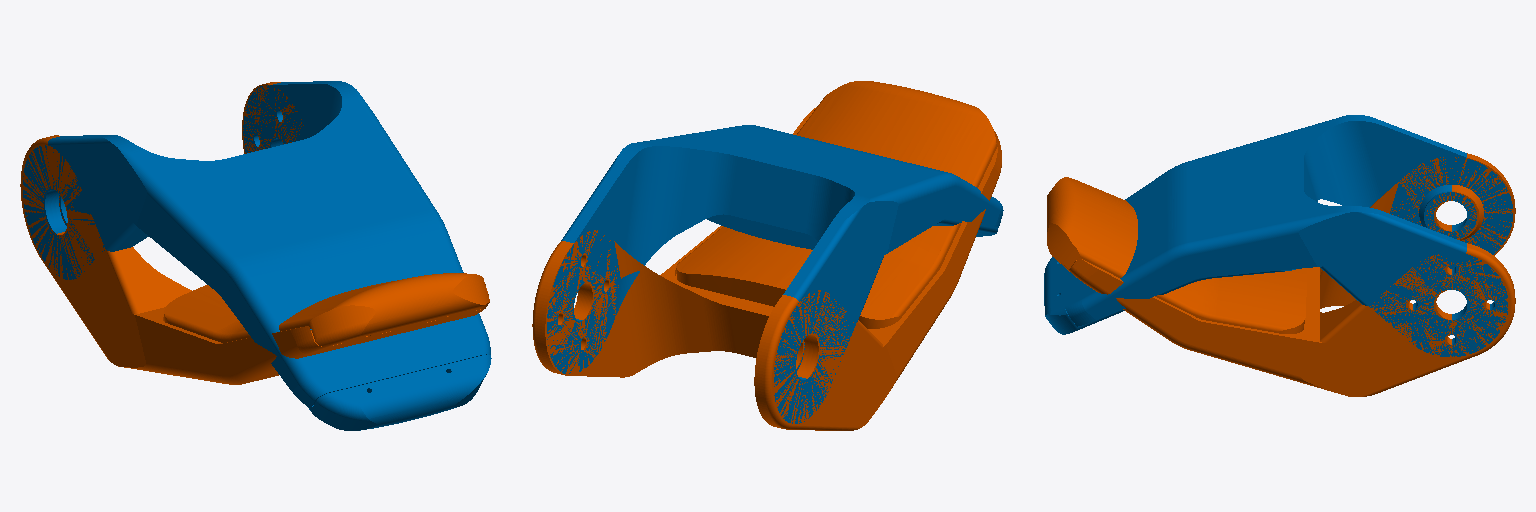
The robot description file, URDF, robot "reachy":
<?xml version="1.0"?>
<robot name="reachy">

<!-- Torso Link -->

<link name="pedestal"/>

<link name="torso">
    <inertial>
        <origin xyz="0.0 0.019 -0.009" rpy="0.0 0.0 0.0"/>
        <mass value="0.527"/>
        <inertia ixx="2.89598e-3" ixy="-1.16791e-6" ixz="-8.28749e-6" iyy="4.491e-3" iyz="2.343e-4" izz="3.995e-3"/>
    </inertial>
    <visual name="">
        <origin xyz="0.0 0.0 0.0" rpy="0.0 0.0 0.0"/>
        <geometry>
            <mesh filename="package://reachy_description/meshes/torso.dae"/>
        </geometry>
    </visual>
    <collision>
        <origin xyz="0 0 -0.1" rpy="0 0.05 0" />
        <geometry>
            <box size="0.11 0.2 0.32" />
        </geometry>
    </collision>
</link>

<!-- Head Links -->

<link name="head">
    <inertial>
        <origin xyz="-0.009 -0.002 0.059" rpy="0.0 0.0 0.0"/>
        <mass value="0.237"/>
        <inertia ixx="1.676e-3" ixy="3.068e-6" ixz="1.2449e-4" iyy="1.368e-3" iyz="3.360e-5" izz="8.425e-4"/>
    </inertial>
    <visual name="">
        <origin xyz="0.0 0.0 0.0" rpy="0.0 0.0 0.0"/>
        <geometry>
            <mesh filename="package://reachy_description/meshes/head.dae"/>
        </geometry>
    </visual>
    <collision>
        <origin xyz="-0.009 -0.002 0.059" rpy="1.57 0.0 0.0"/>
        <geometry>
            <cylinder length="0.15" radius="0.06" />
        </geometry>
    </collision>
</link>

<link name="l_antenna">
    <inertial>
        <origin xyz="-0.001 0.0 0.008" rpy="0.0 0.0 0.0"/>
        <mass value="0.004"/>
        <inertia ixx="1.794e-7" ixy="-1.240e-5" ixz="1.91701e-8" iyy="1.5e-7" iyz="3.169e-6" izz="1.933e-7"/>
    </inertial>
    <visual name="">
        <origin xyz="0.0 0.0 0.0" rpy="0.0 0.0 0.0"/>
        <geometry>
            <mesh filename="package://reachy_description/meshes/antenna.dae"/>
        </geometry>
    </visual>
</link>

<link name="r_antenna">
    <inertial>
        <origin xyz="-0.001 0.0 0.008" rpy="0.0 0.0 0.0"/>
        <mass value="0.004"/>
        <inertia ixx="1.794e-7" ixy="-1.240e-5" ixz="1.91701e-8" iyy="1.5e-7" iyz="3.169e-6" izz="1.933e-7"/>
    </inertial>
    <visual name="">
        <origin xyz="0.0 0.0 0.0" rpy="0.0 0.0 0.0"/>
        <geometry>
            <mesh filename="package://reachy_description/meshes/antenna.dae"/>
        </geometry>
    </visual>
</link>

<!-- Right Arm Links -->

<link name="r_shoulder">
    <inertial>
        <origin xyz="-0.016 0.036 0.0" rpy="1.57 1.57 0.0"/>
        <mass value="0.053"/>
        <inertia ixx="3.308e-4" ixy="9.972e-8" ixz="-2.037e-9" iyy="4.650e-5" iyz="2.113e-6" izz="3.545e-5"/>
    </inertial>
    <visual name="">
        <origin xyz="0.0 0.04 0.0" rpy="1.57 1.57 0.0"/>
        <geometry>
            <mesh filename="package://reachy_description/meshes/shoulder.dae"/>
        </geometry>
    </visual>
    <collision>
        <origin xyz="0.0 0.04 0.0" rpy="1.57 1.57 0.0"/>
        <geometry>
            <cylinder length="0.09" radius="0.035" />
        </geometry>
    </collision>
</link>

<link name="r_shoulder_x">
    <inertial>
        <origin xyz="-0.0 0.0 -0.019" rpy="0.0 0.0 0.0"/>
        <mass value="0.158"/>
        <inertia ixx="6.887e+4" ixy="5.393e+0" ixz="-9.155e+2" iyy="7.895e+4" iyz="4.512e-1" izz="4.235e+4"/>
    </inertial>
    <visual name="">
        <origin xyz="0.0 0.0 0.0" rpy="0.0 0.0 0.0"/>
        <geometry>
            <mesh filename="package://reachy_description/meshes/shoulder_x.dae"/>
        </geometry>
    </visual>
    <collision>
        <origin xyz="0 0 -0.02" rpy="0.0 0.0 0.0"/>
        <geometry>
            <cylinder length="0.04" radius="0.035" />
        </geometry>
    </collision>
</link>

<link name="r_upper_arm">
    <inertial>
        <origin xyz="-0.004 0.0 -0.1426" rpy="0.0 0.0 0.0"/>
        <mass value="0.430"/>
        <inertia ixx="3.264e-3" ixy="-4.027e-8" ixz="1.395e-4" iyy="3.345e-3" iyz="1.885e-6" izz="2.616e-4"/>
    </inertial>
    <visual name="">
        <origin xyz="0.0 0.0 -0.0526" rpy="0.0 0.0 0.0"/>
        <geometry>
            <mesh filename="package://reachy_description/meshes/upper_arm.dae"/>
        </geometry>
    </visual>
    <collision>
        <origin xyz="0.0 0.0 -0.16" rpy="0.0 0.0 0.0"/>
        <geometry>
            <cylinder length="0.25" radius="0.04" />
        </geometry>
    </collision>
</link>

<link name="r_forearm">
    <inertial>
        <origin xyz="-0.008 0.0 -0.058" rpy="0.0 0.0 0.0"/>
        <mass value="0.162"/>
        <inertia ixx="2.532e-4" ixy="-2.999e-8" ixz="1.448e-5" iyy="2.538e-4" iyz="-4.323e-8" izz="1.234e-4"/>
    </inertial>
    <visual name="">
        <origin xyz="0.0 0.0 0.0" rpy="0.0 0.0 0.0"/>
        <geometry>
            <mesh filename="package://reachy_description/meshes/forearm.dae"/>
        </geometry>
    </visual>
    <collision>
        <origin xyz="0.0 0.0 -0.058" rpy="0.0 0.0 0.0"/>
        <geometry>
            <cylinder length="0.09" radius="0.04" />
        </geometry>
    </collision>
</link>

<link name="r_wrist">
    <inertial>
        <origin xyz="0.0 0.0 -0.193" rpy="0.0 0.0 0.0"/>
        <mass value="0.197"/>
        <inertia ixx="6.157e-4" ixy="5.706e-8" ixz="-1.045e-5" iyy="6.280e-4" iyz="4.862e-7" izz="1.050e-4"/>
    </inertial>
    <visual name="">
        <origin xyz="0.0 0.0 -0.100" rpy="0.0 0.0 0.0"/>
        <geometry>
            <mesh filename="package://reachy_description/meshes/wrist.dae"/>
        </geometry>
    </visual>
    <collision>
        <origin xyz="0.0 0.0 -0.18" rpy="0.0 0.0 0.0"/>
        <geometry>
            <cylinder length="0.14" radius="0.035" />
        </geometry>
    </collision>
</link>

<link name="r_wrist2hand">
    <inertial>
        <origin xyz="0.0 0.0 0.014" rpy="0.0 0.0 0.0"/>
        <mass value="0.01"/>
        <inertia ixx="6.750e-6" ixy="3.732e-11" ixz="-1.581e-11" iyy="6.060e-6" iyz="-1.746e-12" izz="5.774e-6"/>
    </inertial>
    <visual name="">
        <origin xyz="0.0 0.0 0.0" rpy="0.0 0.0 0.0"/>
        <geometry>
            <mesh filename="package://reachy_description/meshes/wrist2hand.dae"/>
        </geometry>
    </visual>
    <collision>
        <origin xyz="0.0 0.0 -0.03" rpy="0.0 0.0 0.0"/>
        <geometry>
            <cylinder length="0.06" radius="0.03" />
        </geometry>
    </collision>
</link>

<link name="r_gripper_thumb">
    <inertial>
        <origin xyz="0.032 -0.008 0.0" rpy="0.0 1.57 0.0"/>
        <mass value="0.173"/>
        <inertia ixx="1.083e-4" ixy="-3.476e-5" ixz="1.331e-6" iyy="1.421e-4" iyz="6.730e-7" izz="2.112e-4"/>
    </inertial>
    <visual name="">
        <origin xyz="0.0 0.0 0.0" rpy="0.0 1.57 0.0"/>
        <geometry>
            <mesh filename="package://reachy_description/meshes/r_gripper_thumb.dae"/>
        </geometry>
    </visual>
    <collision>
        <origin xyz="0.0 0.02 -0.06" rpy="0.0 1.57 0.0"/>
        <geometry>
            <box size="0.1 0.012 0.035" />
        </geometry>
    </collision>
</link>

<link name="r_gripper_finger">
    <inertial>
        <origin xyz="-0.005 -0.043 -0.0" rpy="0.0 1.57 0.0"/>
        <mass value="0.035"/>
        <inertia ixx="9.166e-5" ixy="-6.559e-6" ixz="-3.952e-8" iyy="1.062e-5" iyz="5.276e-9" izz="8.704e-5"/>
    </inertial>
    <visual name="">
        <origin xyz="0.0 0.0 0.0" rpy="0.0 1.57 0.0"/>
        <geometry>
            <mesh filename="package://reachy_description/meshes/r_gripper_finger.dae"/>
        </geometry>
    </visual>
    <collision>
        <origin xyz="0.0 -0.01 -0.02" rpy="0.0 1.57 0.0"/>
        <geometry>
            <box size="0.1 0.012 0.035" />
        </geometry>
    </collision>
</link>

<link name="right_tip"/>


<!-- Left Arm Links -->

<link name="l_shoulder">
    <inertial>
        <origin xyz="-0.016 0.044 0.0" rpy="-1.57 1.57 0.0"/>
        <mass value="0.053"/>
        <inertia ixx="3.308e-4" ixy="9.972e-8" ixz="-2.037e-9" iyy="4.650e-5" iyz="2.113e-6" izz="3.545e-5"/>
    </inertial>
    <visual name="">
        <origin xyz="0.0 -0.04 0.0" rpy="-1.57 1.57 0.0"/>
        <geometry>
            <mesh filename="package://reachy_description/meshes/shoulder.dae"/>
        </geometry>
    </visual>
    <collision>
        <origin xyz="0.0 -0.04 0.0" rpy="-1.57 1.57 0.0"/>
        <geometry>
            <cylinder length="0.09" radius="0.035" />
        </geometry>
    </collision>
</link>

<link name="l_shoulder_x">
    <inertial>
        <origin xyz="0.0 0.0 -0.019" rpy="0.0 0.0 0.0"/>
        <mass value="0.158"/>
        <inertia ixx="6.887e+4" ixy="5.393e+0" ixz="-9.155e+2" iyy="7.895e+4" iyz="4.512e-1" izz="4.235e+4"/>
    </inertial>
    <visual name="">
        <origin xyz="0.0 0.0 0.0" rpy="0.0 0.0 0.0"/>
        <geometry>
            <mesh filename="package://reachy_description/meshes/shoulder_x.dae"/>
        </geometry>
    </visual>
    <collision>
        <origin xyz="0 0 -0.02" rpy="0.0 0.0 0.0"/>
        <geometry>
            <cylinder length="0.04" radius="0.035" />
        </geometry>
    </collision>
</link>

<link name="l_upper_arm">
    <inertial>
        <origin xyz="-0.004 0.0 -0.1426" rpy="0.0 0.0 0.0"/>
        <mass value="0.430"/>
        <inertia ixx="3.264e-3" ixy="-4.027e-8" ixz="1.395e-4" iyy="3.345e-3" iyz="1.885e-6" izz="2.616e-4"/>
    </inertial>
    <visual name="">
        <origin xyz="0.0 0.0 -0.0526" rpy="0.0 0.0 0.0"/>
        <geometry>
            <mesh filename="package://reachy_description/meshes/upper_arm.dae"/>
        </geometry>
    </visual>
    <collision>
        <origin xyz="0.0 0.0 -0.16" rpy="0.0 0.0 0.0"/>
        <geometry>
            <cylinder length="0.25" radius="0.04" />
        </geometry>
    </collision>
</link>

<link name="l_forearm">
    <inertial>
        <origin xyz="-0.008 0.0 -0.058" rpy="0.0 0.0 0.0"/>
        <mass value="0.162"/>
        <inertia ixx="2.532e-4" ixy="-2.999e-8" ixz="1.448e-5" iyy="2.538e-4" iyz="-4.323e-8" izz="1.234e-4"/>
    </inertial>
    <visual name="">
        <origin xyz="0.0 0.0 0.0" rpy="0.0 0.0 0.0"/>
        <geometry>
            <mesh filename="package://reachy_description/meshes/forearm.dae"/>
        </geometry>
    </visual>
    <collision>
        <origin xyz="0.0 0.0 -0.058" rpy="0.0 0.0 0.0"/>
        <geometry>
            <cylinder length="0.09" radius="0.04" />
        </geometry>
    </collision>
</link>

<link name="l_wrist">
    <inertial>
        <origin xyz="0.0 0.0 -0.193" rpy="0.0 0.0 0.0"/>
        <mass value="0.197"/>
        <inertia ixx="6.157e-4" ixy="5.706e-8" ixz="-1.045e-5" iyy="6.280e-4" iyz="4.862e-7" izz="1.050e-4"/>
    </inertial>
    <visual name="">
        <origin xyz="0.0 0.0 -0.1" rpy="0.0 0.0 0.0"/>
        <geometry>
            <mesh filename="package://reachy_description/meshes/wrist.dae"/>
        </geometry>
    </visual>
    <collision>
        <origin xyz="0.0 0.0 -0.18" rpy="0.0 0.0 0.0"/>
        <geometry>
            <cylinder length="0.14" radius="0.035" />
        </geometry>
    </collision>
</link>

<link name="l_wrist2hand">
    <inertial>
        <origin xyz="0.0 0.0 0.014" rpy="0.0 0.0 0.0"/>
        <mass value="0.01"/>
        <inertia ixx="6.750e-6" ixy="3.732e-11" ixz="-1.581e-11" iyy="6.060e-6" iyz="-1.746e-12" izz="5.774e-6"/>
    </inertial>
    <visual name="">
        <origin xyz="0.0 0.0 0.0" rpy="0.0 0.0 0.0"/>
        <geometry>
            <mesh filename="package://reachy_description/meshes/wrist2hand.dae"/>
        </geometry>
    </visual>
    <collision>
        <origin xyz="0.0 0.0 -0.03" rpy="0.0 0.0 0.0"/>
        <geometry>
            <cylinder length="0.06" radius="0.03" />
        </geometry>
    </collision>
</link>

<link name="l_gripper_thumb">
    <inertial>
        <origin xyz="0.032 0.008 0.0" rpy="0.0 1.57 0.0"/>
        <mass value="0.173"/>
        <inertia ixx="1.088e+5" ixy="3.479e+4" ixz="1.357e+3" iyy="1.422e+5" iyz="-7.930e+2" izz="2.116e+5"/>
    </inertial>
    <visual name="">
        <origin xyz="0.0 0.0 0.0" rpy="0.0 1.57 0.0"/>
        <geometry>
            <mesh filename="package://reachy_description/meshes/l_gripper_thumb.dae"/>
        </geometry>
    </visual>
    <collision>
        <origin xyz="0.0 -0.02 -0.06" rpy="0.0 1.57 0.0"/>
        <geometry>
            <box size="0.1 0.012 0.035" />
        </geometry>
    </collision>
</link>

<link name="l_gripper_finger">
    <inertial>
        <origin xyz="0.005 -0.043 0.0" rpy="0.0 1.57 0.0"/>
        <mass value="0.035"/>
        <inertia ixx="9.165e-5" ixy="6.559e-6" ixz="3.609e-10" iyy="1.062e-5" iyz="4.666e-9" izz="8.705e-5"/>
    </inertial>
    <visual name="">
        <origin xyz="0.0 0.0 0.0" rpy="0.0 1.57 0.0"/>
        <geometry>
            <mesh filename="package://reachy_description/meshes/l_gripper_finger.dae"/>
        </geometry>
    </visual>
    <collision>
        <origin xyz="0.0 0.01 -0.02" rpy="0.0 1.57 0.0"/>
        <geometry>
            <box size="0.1 0.012 0.035" />
        </geometry>
    </collision>
</link>

<link name="left_tip"/>

<!-- Head and Torso joints -->

<joint name="pedestal" type="fixed">
    <origin xyz="0 0 1" rpy="0 0 0" />
    <parent link="pedestal" />
    <child link="torso" />
</joint>

<joint name="r_antenna" type="revolute">
    <origin xyz="-0.052 -0.057 0.086" rpy="-0.166 -1.054 1.11"/>
    <parent link="head"/> 
    <child link="r_antenna"/>
    <axis xyz="0 0 1"/>
   <limit lower="-2.618" upper="2.618" effort="10." velocity="0.0"/>
</joint>

<joint name="l_antenna" type="revolute">
    <origin xyz="-0.052 0.057 0.086" rpy="0.166 -1.054 -1.11"/>
    <parent link="head"/> 
    <child link="l_antenna"/>
    <axis xyz="0 0 1"/>
   <limit lower="-2.618" upper="2.618" effort="10." velocity="0.0"/>
</joint>


<!-- Right Arm joint -->

<joint name="r_shoulder_pitch" type="revolute">
    <origin xyz="0.0 -0.19 0.0" rpy="0.0 0.0 0.0"/>
    <parent link="torso"/> 
    <child link="r_shoulder"/>
    <axis xyz="0 1 0"/>
   <limit lower="-2.618" upper="1.57" effort="10." velocity="0.0"/>
</joint>

<joint name="r_shoulder_roll" type="revolute">
    <origin xyz="0 0 0" rpy="0.0 0.0 0.0"/>
    <parent link="r_shoulder"/>
    <child link="r_shoulder_x"/>
    <axis xyz="1 0 0"/>
   <limit lower="-3.14" upper="0.174" effort="10." velocity="0.0"/>
</joint>

<joint name="r_arm_yaw" type="revolute">
    <origin xyz="0 0 0" rpy="0.0 0.0 0.0"/>
    <parent link="r_shoulder_x"/>
    <child link="r_upper_arm"/>
    <axis xyz="0 0 1"/>
   <limit lower="-1.57" upper="1.57" effort="10." velocity="0.0"/>
</joint>

<joint name="r_elbow_pitch" type="revolute">
    <origin xyz="0 0 -0.28" rpy="0.0 0.0 0.0"/>
    <parent link="r_upper_arm"/>
    <child link="r_forearm"/>
    <axis xyz="0 1 0"/>
   <limit lower="-2.182" upper="0" effort="10." velocity="0.0"/>
</joint>

<joint name="r_forearm_yaw" type="revolute">
    <origin xyz="0 0 0" rpy="0.0 0.0 0.0"/>
    <parent link="r_forearm"/>
    <child link="r_wrist"/>
    <axis xyz="0 0 1"/>
   <limit lower="-1.745" upper="1.745" effort="10." velocity="0.0"/>
</joint>

<joint name="r_wrist_pitch" type="revolute">
    <origin xyz="0 0 -0.25" rpy="0.0 0.0 0.0"/>
    <parent link="r_wrist"/>
    <child link="r_wrist2hand"/>
    <axis xyz="0 1 0"/>
   <limit lower="-0.785" upper="0.785" effort="10." velocity="0.0"/>
</joint>


<joint name="r_wrist_roll" type="revolute">
    <origin xyz="0 0 -0.0325" rpy="0.0 0.0 0.0"/>
    <parent link="r_wrist2hand"/>
    <child link="r_gripper_thumb"/>
    <axis xyz="1 0 0"/>
   <limit lower="-0.785" upper="0.785" effort="10." velocity="0.0"/>
</joint>

<joint name="r_gripper" type="revolute">
    <origin xyz="0.0 -0.037 -0.03998" rpy="0.0 0.0 0.0"/>
    <parent link="r_gripper_thumb"/>
    <child link="r_gripper_finger"/>
    <axis xyz="1 0 0"/>
   <limit lower="-1.2" upper="0.35" effort="10." velocity="0.0"/>
</joint>

<joint name="r_tip" type="fixed">
    <origin xyz="0 -0.012 -0.085" rpy="0 0 0" />
    <parent link="r_gripper_thumb" />
    <child link="right_tip" />
</joint>

<!-- Left arm joints -->
<joint name="l_shoulder_pitch" type="revolute">
    <origin xyz="0.0 0.19 0.0" rpy="0.0 0.0 0.0"/>
    <parent link="torso"/>
    <child link="l_shoulder"/>
    <axis xyz="0 1 0"/>
   <limit lower="-2.618" upper="1.57" effort="10." velocity="0.0"/>
</joint>

<joint name="l_shoulder_roll" type="revolute">
    <origin xyz="0 0 0" rpy="0.0 0.0 0.0"/>
    <parent link="l_shoulder"/>
    <child link="l_shoulder_x"/>
    <axis xyz="1 0 0"/>
   <limit lower="-0.174" upper="3.14" effort="10." velocity="0.0"/>
</joint>

<joint name="l_arm_yaw" type="revolute">
    <origin xyz="0 0 0" rpy="0.0 0.0 0.0"/>
    <parent link="l_shoulder_x"/>
    <child link="l_upper_arm"/>
    <axis xyz="0 0 1"/>
   <limit lower="-1.57" upper="1.57" effort="10." velocity="0.0"/> 
</joint>

<joint name="l_elbow_pitch" type="revolute">
    <origin xyz="0 0 -0.28" rpy="0.0 0.0 0.0"/>
    <parent link="l_upper_arm"/>
    <child link="l_forearm"/>
    <axis xyz="0 1 0"/>
   <limit lower="-2.182" upper="0" effort="10." velocity="0.0"/>
</joint>

<joint name="l_forearm_yaw" type="revolute">
    <origin xyz="0 0 0" rpy="0.0 0.0 0.0"/> 
    <parent link="l_forearm"/>
    <child link="l_wrist"/>
    <axis xyz="0 0 1"/>
   <limit lower="-1.745" upper="1.745" effort="10." velocity="0.0"/>
</joint>


<joint name="l_wrist_pitch" type="revolute">
    <origin xyz="0 0 -0.25" rpy="0.0 0.0 0.0"/>
    <parent link="l_wrist"/>
    <child link="l_wrist2hand"/>
    <axis xyz="0 1 0"/>
   <limit lower="-0.785" upper="0.785" effort="10." velocity="0.0"/>
</joint>


<joint name="l_wrist_roll" type="revolute">
    <origin xyz="0 0 -0.0325" rpy="0.0 0.0 0.0"/>
    <parent link="l_wrist2hand"/>
    <child link="l_gripper_thumb"/>
    <axis xyz="1 0 0"/>
   <limit lower="-0.785" upper="0.785" effort="10." velocity="0.0"/>
</joint>

<joint name="l_gripper" type="revolute">
    <origin xyz="0.0 0.037 -0.03998" rpy="0.0 0.0 0.0"/>
    <parent link="l_gripper_thumb"/>
    <child link="l_gripper_finger"/>
    <axis xyz="1 0 0"/>
   <limit lower="-0.35" upper="1.2" effort="10." velocity="0.0"/>
</joint>

<joint name="l_tip" type="fixed">
    <origin xyz="0 0.012 -0.085" rpy="0 0 0" />
    <parent link="l_gripper_thumb" />
    <child link="left_tip" />
</joint>

<!-- Head joint... -->

<!-- ...with a fixed joint -->
<!--
<joint name="torso2head" type="fixed">
    <origin xyz="0.015 0.0 0.095" rpy="0 0.174 0" />
    <parent link="torso" />
    <child link="head" />
</joint>
-->

<!-- ...with a ball orbita joint -->
<joint name="orbita_roll" type="revolute">
    <origin xyz="0.015 0.0 0.095" rpy="0 0.174 0" />
    <parent link="torso"/>
    <child link="head_x"/>
    <axis xyz="1 0 0"/>
   <limit lower="0" upper="0.8" effort="10." velocity="0.0"/>
</joint>

<link name="head_x">
    <visual name="">
        <origin xyz="0.0 0.0 -0.048" rpy="0.0 0.0 0.5236"/>
        <geometry>
            <mesh filename="package://reachy_description/meshes/orbita_arm.dae"/>
        </geometry>
    </visual>
</link>

<joint name="orbita_pitch" type="revolute">
    <origin xyz="0 0 0" rpy="0.0 0.0 0.0"/>
    <parent link="head_x"/>
    <child link="head_y"/>
    <axis xyz="0 1 0"/>
   <limit lower="0" upper="0.8" effort="10." velocity="0.0"/>
</joint>

<link name="head_y">
    <visual name="">
        <origin xyz="0.0 0.0 -0.048" rpy="0.0 0.0 2.618"/>
        <geometry>
            <mesh filename="package://reachy_description/meshes/orbita_arm.dae"/>
        </geometry>
    </visual>
</link>

<joint name="orbita_yaw" type="revolute">
    <origin xyz="0 0 0" rpy="0.0 0.0 0.0"/>
    <parent link="head_y"/>
    <child link="head_z"/>
    <axis xyz="0 0 1"/>
   <limit lower="-0.8" upper="0.8" effort="10." velocity="0.0"/>
</joint>

<link name="head_z">
    <visual name="">
        <origin xyz="0.0 0.0 -0.048" rpy="0.0 0.0 -1.57"/>
        <geometry>
            <mesh filename="package://reachy_description/meshes/orbita_arm.dae"/>
        </geometry>
    </visual>
</link>

<joint name="orbita_fixed" type="fixed">
    <origin xyz="0 0 0" rpy="0.0 0.0 0.0"/>
    <parent link="head_z" />
    <child link="head" />
</joint>

<!-- Cameras -->

<joint name="left_cam_fixed" type="fixed">
    <origin xyz="0.0033 0.03625 0.061" rpy="0.0 0.0 0.0"/>
    <parent link="head" />
    <child link="left_camera" />
</joint>

<link name="left_camera" />

<joint name="right_cam_fixed" type="fixed">
    <origin xyz="0.0033 -0.03625 0.061" rpy="0.0 0.0 0.0"/>
    <parent link="head" />
    <child link="right_camera" />
</joint>

<link name="right_camera" />

</robot>

--- Facts derived from the render (not from the file) ---
3 views of the same robot in one strip: view 1: azimuth 30°, elevation 25°; view 2: azimuth 150°, elevation 25°; view 3: azimuth 270°, elevation 25° (orthographic).
Model reachy with 28 links and 27 joints (21 revolute, 6 fixed), rooted at pedestal, posed all joints at 0.
Links seen in each view (by area): view 1: r_gripper_finger, l_gripper_finger; view 2: l_gripper_finger, r_gripper_finger; view 3: r_gripper_finger, l_gripper_finger.
Boxes of the visible links, left/top/right/bottom form: r_gripper_finger: left=23, top=81, right=491, bottom=430; l_gripper_finger: left=20, top=82, right=489, bottom=384; l_gripper_finger: left=532, top=81, right=1001, bottom=430; r_gripper_finger: left=547, top=125, right=1003, bottom=423; r_gripper_finger: left=1044, top=115, right=1512, bottom=356; l_gripper_finger: left=1047, top=153, right=1515, bottom=396.
Size in the robot's own frame: 48.03 by 97.61 by 42.34 metres.
2 mesh visuals loaded from 14 distinct referenced files (2 Collada DAE); not drawn: 21 (reference not matched to a file when rendering).